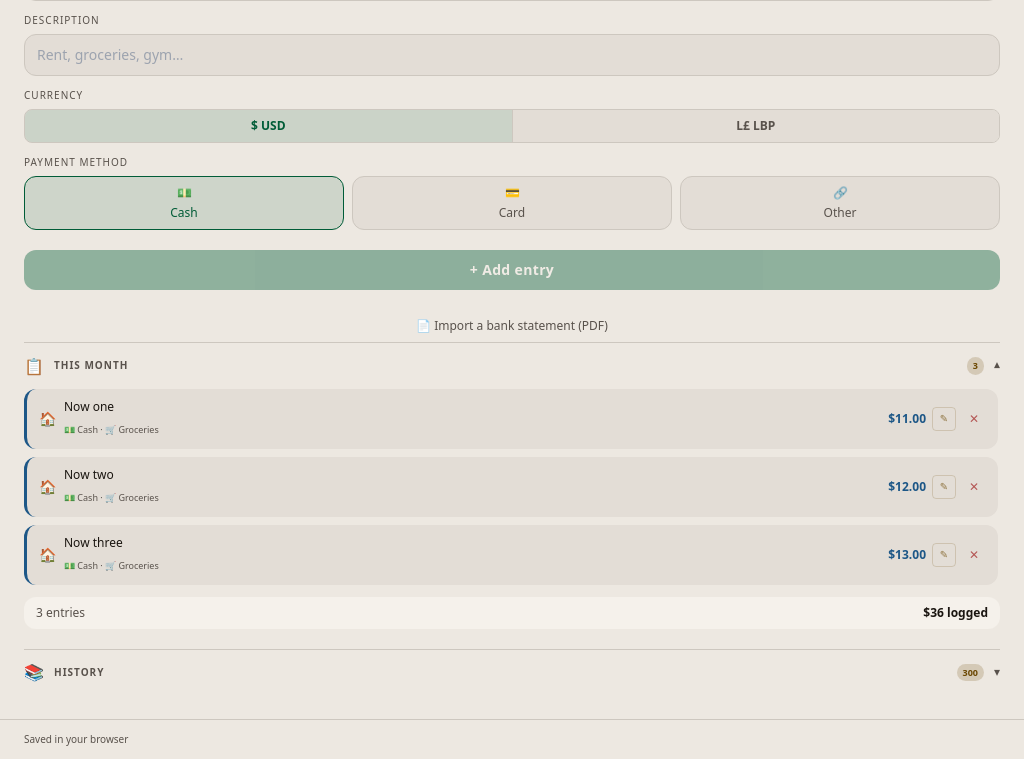
Test: My Finances builds History's rows only while it's open › opened: the past rows are built and shown
(page scrolled)
Click the button "📚 History 300 ▾": (79, 672) [24,650,1000,695]
(page scrolled)
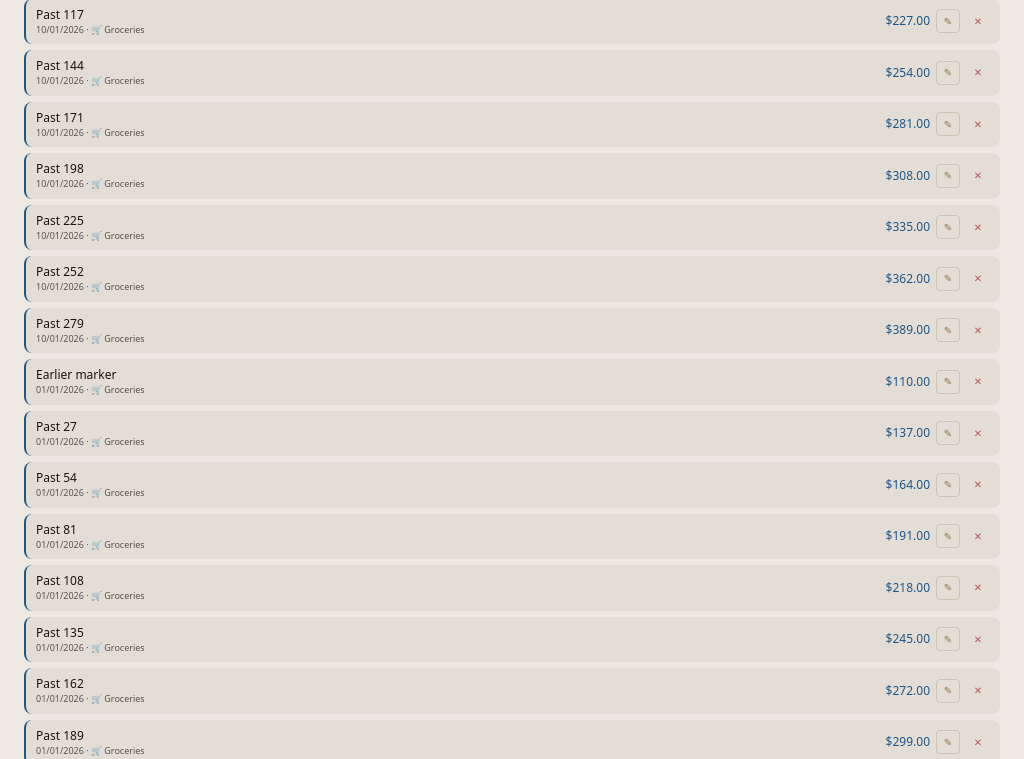
Result: the text "Earlier marker" is shown at [36,366,116,383]
